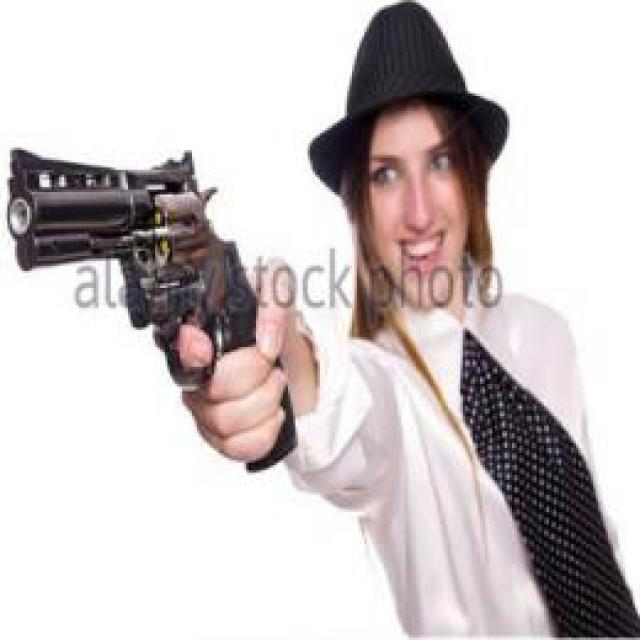pistol: (2, 140, 296, 474)
